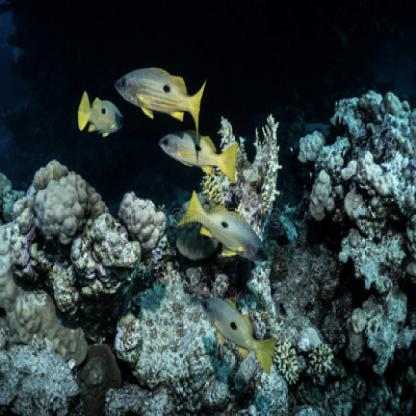snapper: (108, 64, 208, 143), (176, 187, 268, 264), (198, 292, 278, 374), (156, 129, 240, 187), (74, 84, 127, 141)
